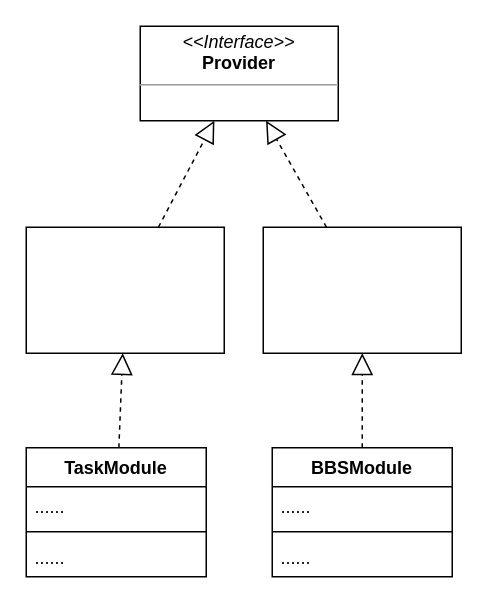
The diagram is 488 pixels wide and 608 high, and some of its shapes have lost their labels. Each missing label, with the centre of its shape:
<<Interface>> BBSProvider + createNewPost() + ......: the point at 361,289
<<Interface>> TaskProvider + showTaskDetail() + ......: the point at 124,289
